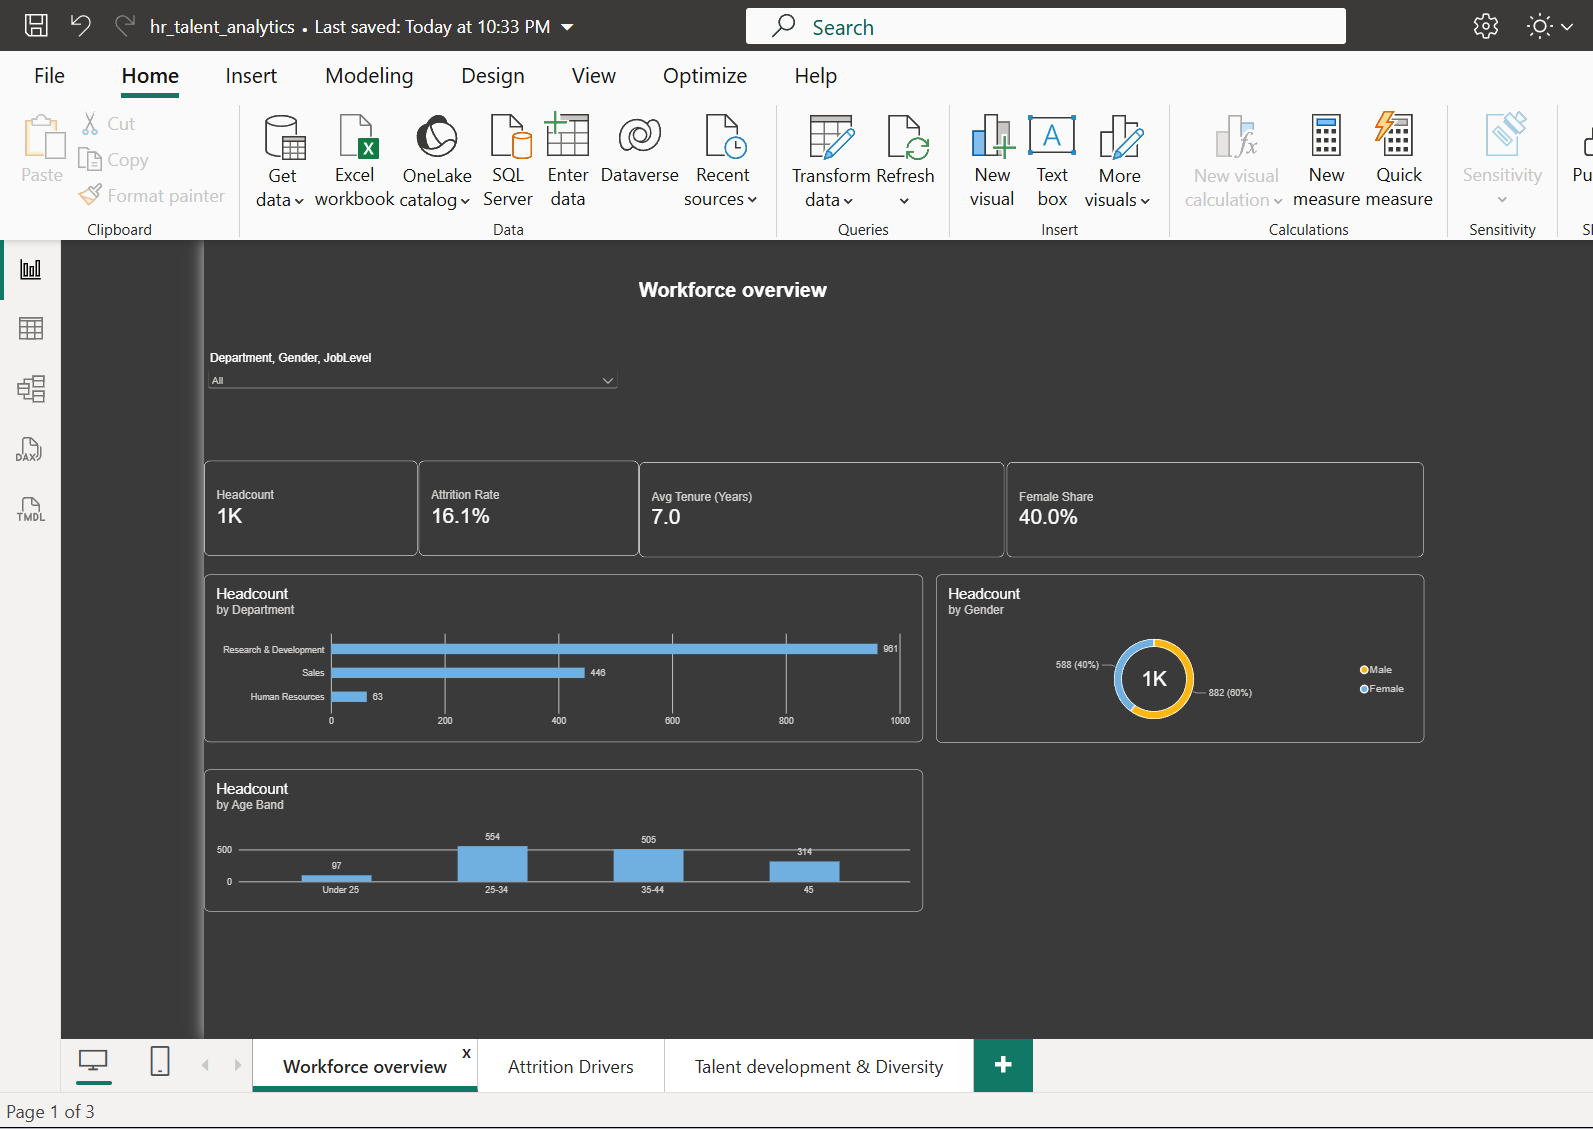

The dashboard page shown, as its layout file describes it:
{"tool":"powerbi","page":{"name":"Workforce overview","canvas":[1920,1080],"ordinal":0},"visuals":[{"type":"cardVisual","fields":{"Data":["Employees.Headcount"]},"box":[0,298.1,289.9,129.8],"z":0},{"type":"cardVisual","fields":{"Data":["Employees.Attrition Rate"]},"box":[289.9,298.1,298.1,129.8],"z":1000},{"type":"textbox","box":[588.6,52.9,563.7,115.6],"z":2000},{"type":"cardVisual","fields":{"Data":["Employees.Avg Tenure (Years)"]},"box":[588.6,300,494.7,129.2],"z":3000},{"type":"cardVisual","fields":{"Data":["Employees.Female Share"]},"box":[1083.9,299.3,564,129.2],"z":4000},{"type":"clusteredBarChart","fields":{"Category":["Employees.Department"],"Y":["Employees.Headcount"]},"box":[0,451.7,971.7,226.7],"z":5000},{"type":"clusteredColumnChart","fields":{"Category":["Employees.Age Band"],"Y":["Employees.Headcount"]},"box":[0,715,971.7,191.7],"z":6000},{"type":"donutChart","fields":{"Category":["Employees.Gender"],"Y":["Employees.Headcount"]},"box":[988.6,451.4,660,227.1],"z":7000},{"type":"slicer","fields":{"Values":["Employees.Department","Employees.Gender","Employees.JobLevel"]},"box":[0,150,564,150],"z":7001}]}

Visuals, with their boxes on the page's 1920x1080 design canvas (x1, y1, x2, y2). These are canvas units, not pixel positions in the 1593x1129 screenshot, which may show the page scaled, cropped or inside an application window:
cardVisual - Employees.Headcount: {"left": 0, "top": 298, "right": 290, "bottom": 428}
cardVisual - Employees.Attrition Rate: {"left": 290, "top": 298, "right": 588, "bottom": 428}
textbox: {"left": 589, "top": 53, "right": 1152, "bottom": 168}
cardVisual - Employees.Avg Tenure (Years): {"left": 589, "top": 300, "right": 1083, "bottom": 429}
cardVisual - Employees.Female Share: {"left": 1084, "top": 299, "right": 1648, "bottom": 428}
clusteredBarChart - Employees.Department x Employees.Headcount: {"left": 0, "top": 452, "right": 972, "bottom": 678}
clusteredColumnChart - Employees.Age Band x Employees.Headcount: {"left": 0, "top": 715, "right": 972, "bottom": 907}
donutChart - Employees.Gender x Employees.Headcount: {"left": 989, "top": 451, "right": 1649, "bottom": 678}
slicer - Employees.Department x Employees.Gender: {"left": 0, "top": 150, "right": 564, "bottom": 300}
